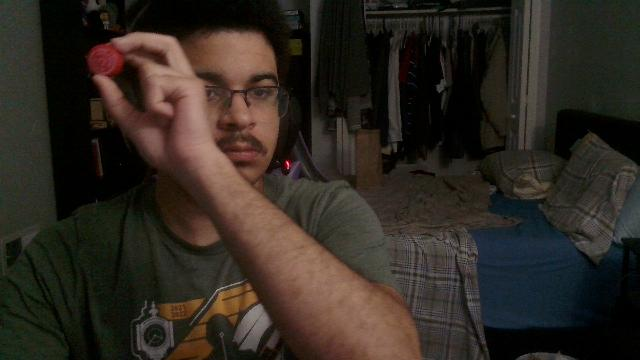cap: (88, 44, 124, 75)
